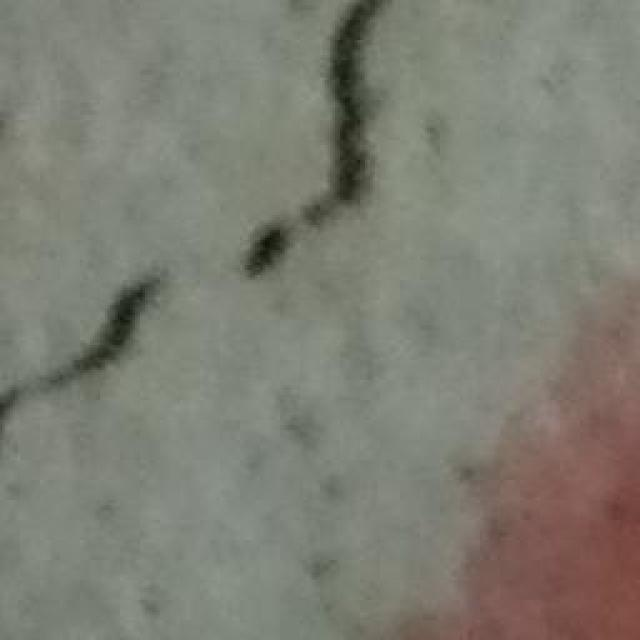Diagonal: (0, 0, 415, 425)
